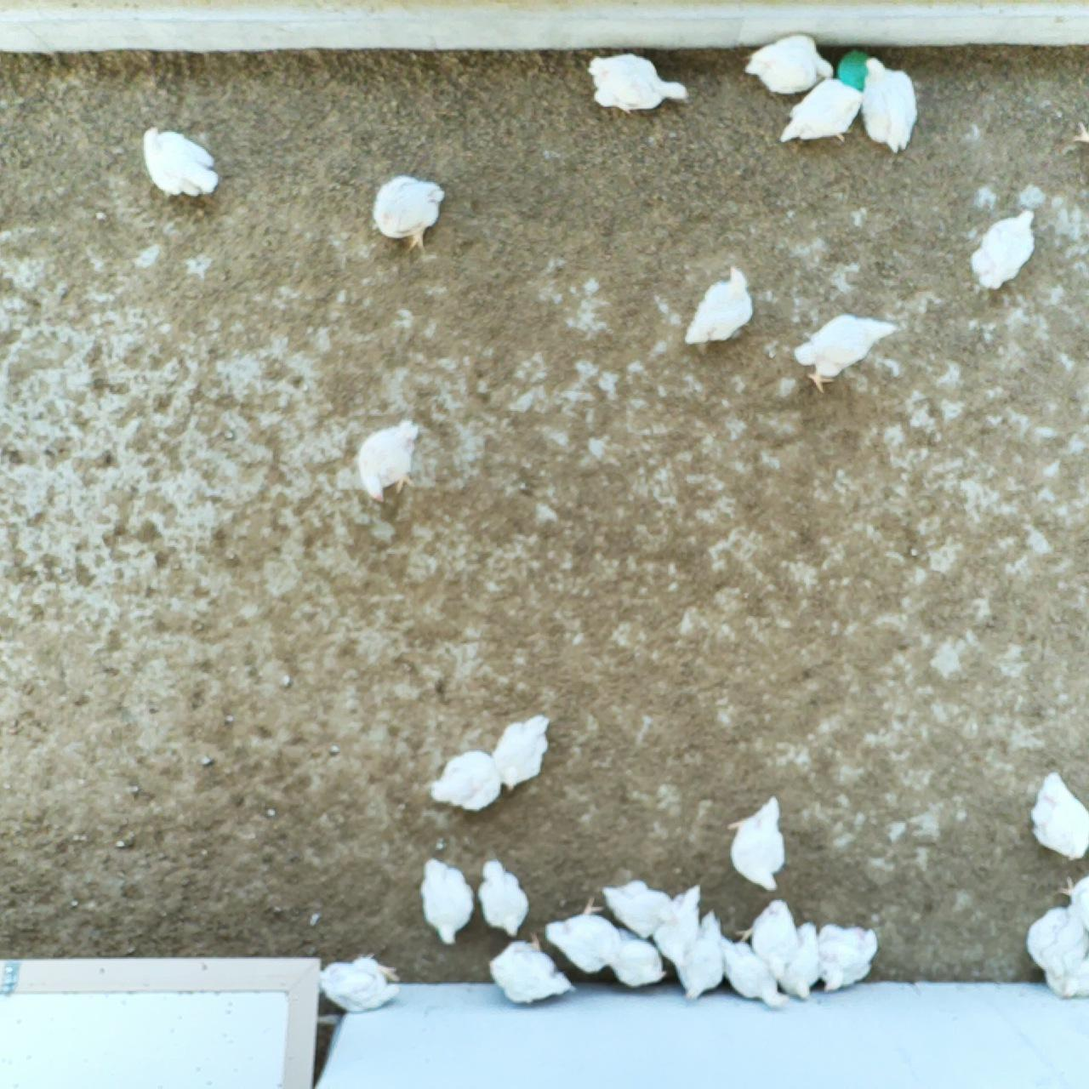chicken: (792, 309, 899, 397), (581, 47, 691, 122), (540, 893, 627, 980), (769, 75, 867, 151), (138, 121, 225, 206), (680, 258, 757, 353), (370, 168, 448, 260), (1021, 764, 1089, 864), (741, 30, 837, 100), (353, 414, 425, 507), (725, 792, 790, 895), (966, 207, 1041, 295), (858, 55, 924, 155), (733, 897, 803, 985), (415, 854, 479, 949), (718, 932, 792, 1014), (315, 948, 403, 1016), (427, 745, 505, 816), (600, 876, 678, 944), (490, 713, 553, 795), (676, 908, 729, 1004), (654, 880, 708, 971), (594, 934, 670, 996), (476, 858, 531, 943), (819, 920, 878, 999), (1020, 903, 1081, 978), (776, 920, 827, 1005), (1040, 931, 1089, 1000), (1058, 870, 1089, 935)
